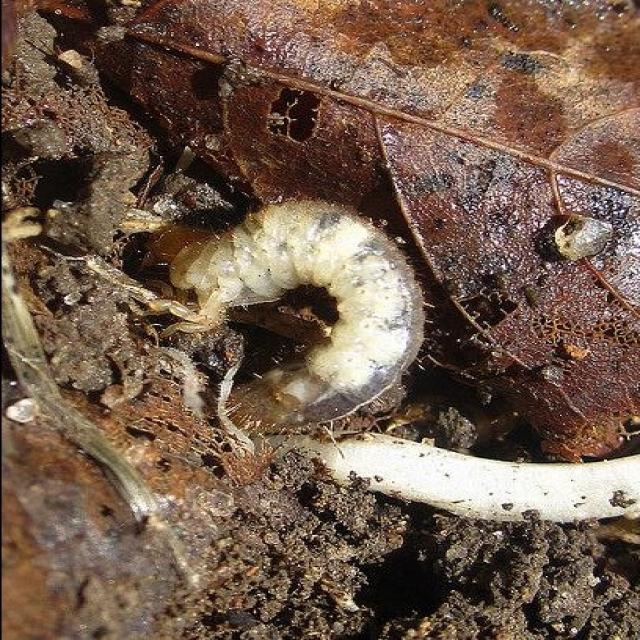grub: (162, 203, 430, 449)
